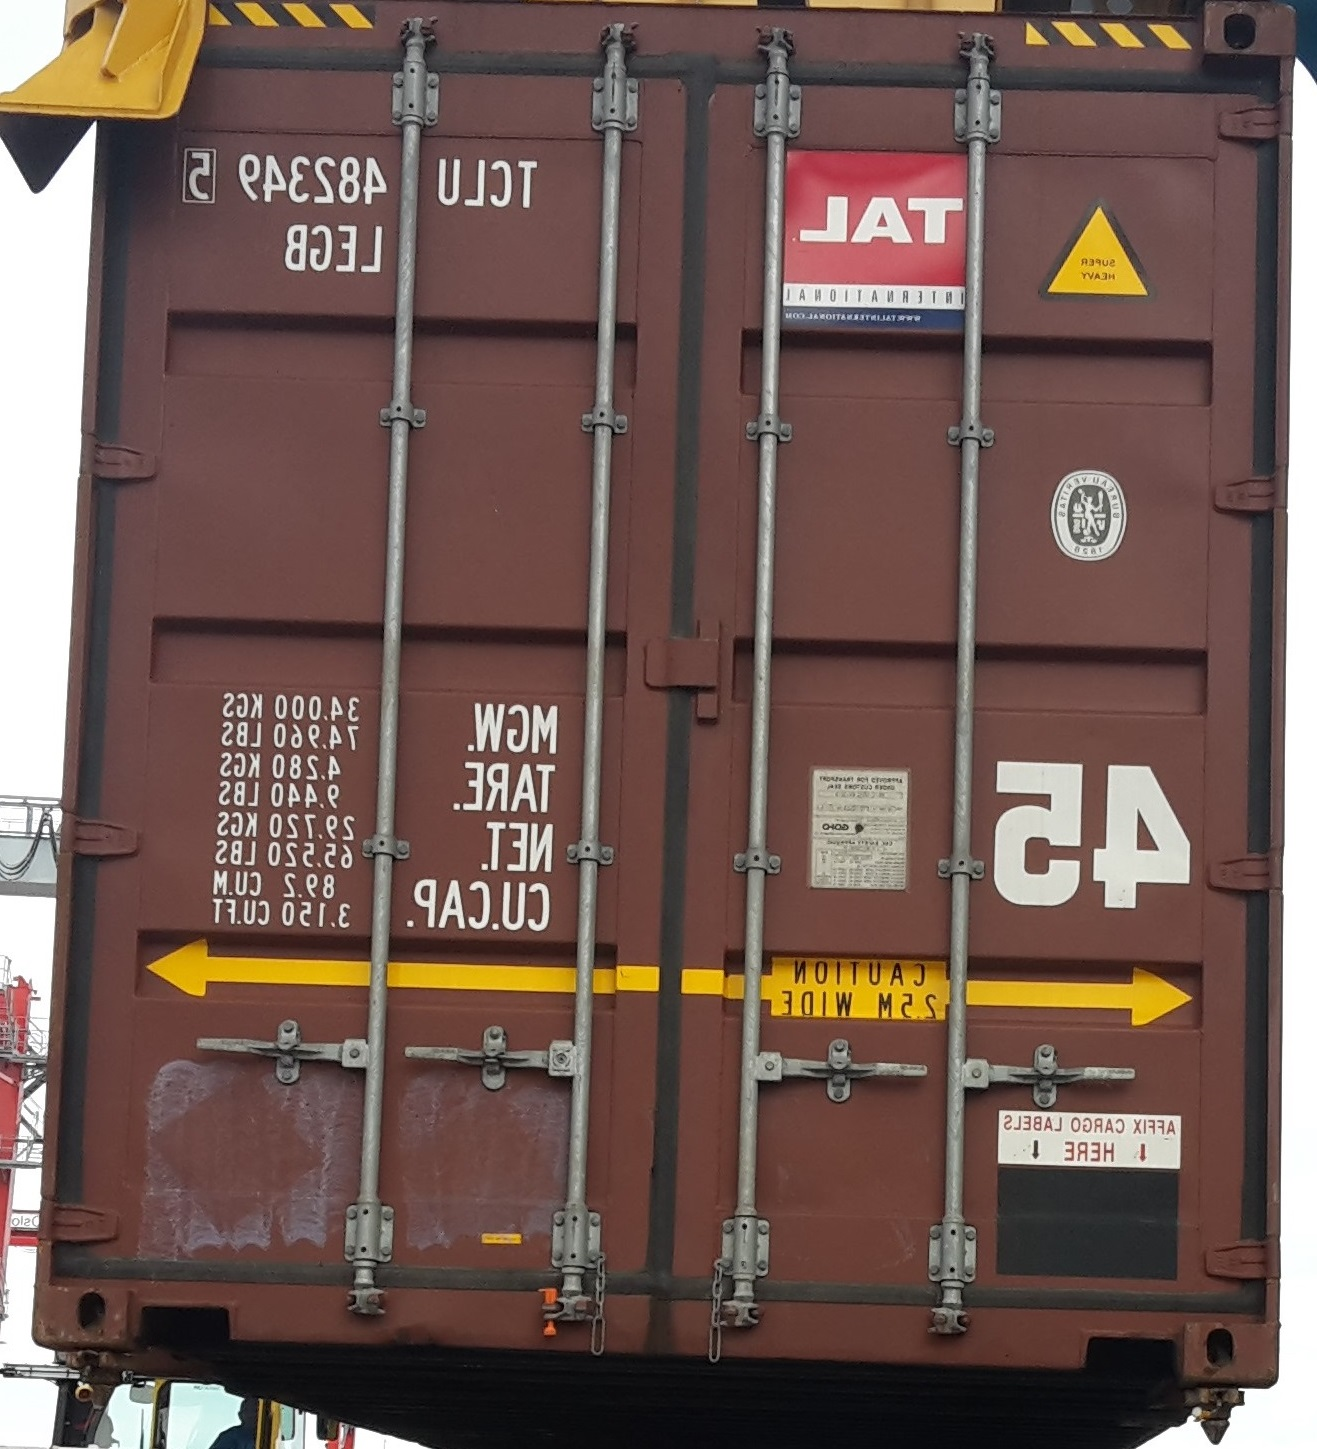container_door: (34, 9, 1296, 1358)
twist_lock_1: (1155, 1359, 1277, 1449)
